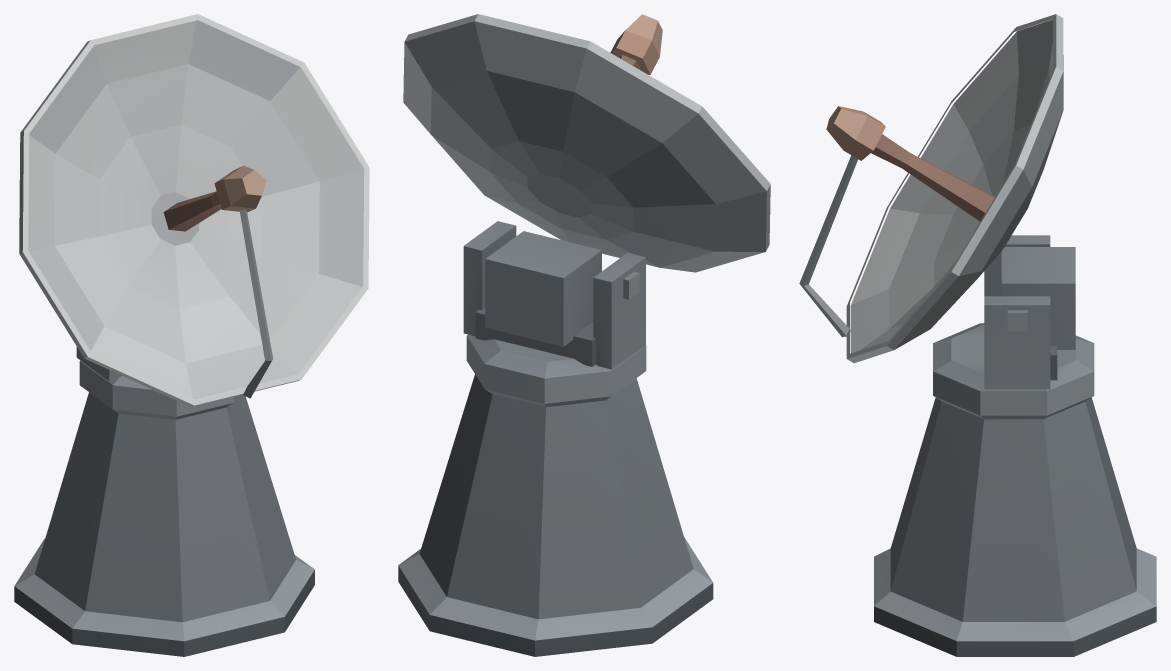
The model's file is dish.lod1.glb.
3 renders of one model, left to right at view 1: azimuth 30°, elevation 25°; view 2: azimuth 150°, elevation 25°; view 3: azimuth 270°, elevation 25°, orthographic. The views are drawn at different scales.
Size of the model in its own units: 5.1 by 7.75 by 4.51.
